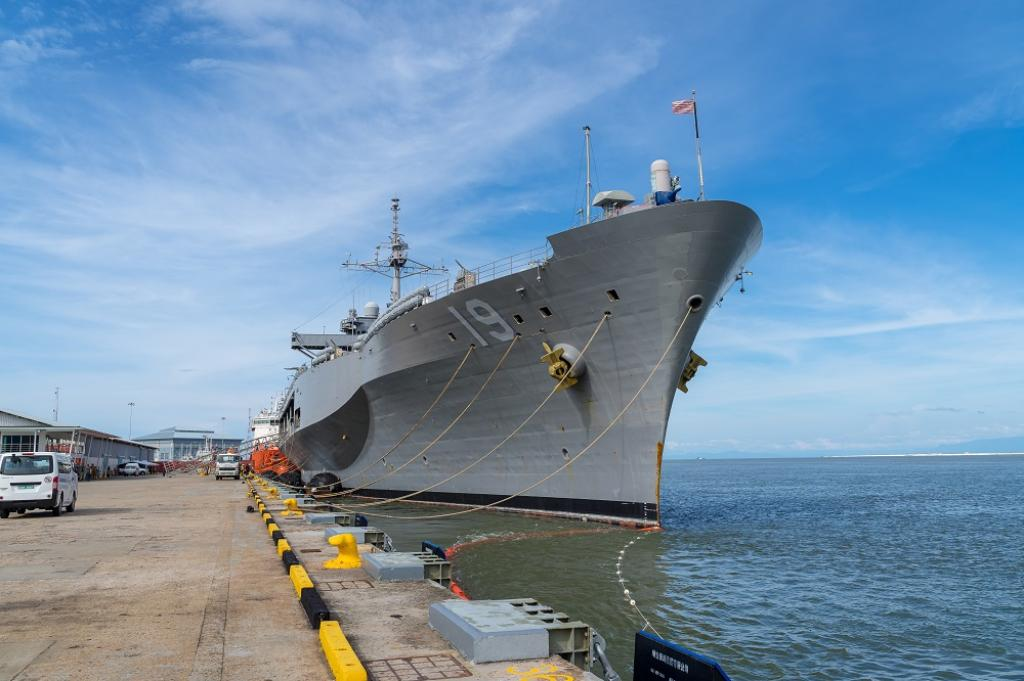Warship: (266, 85, 766, 532)
